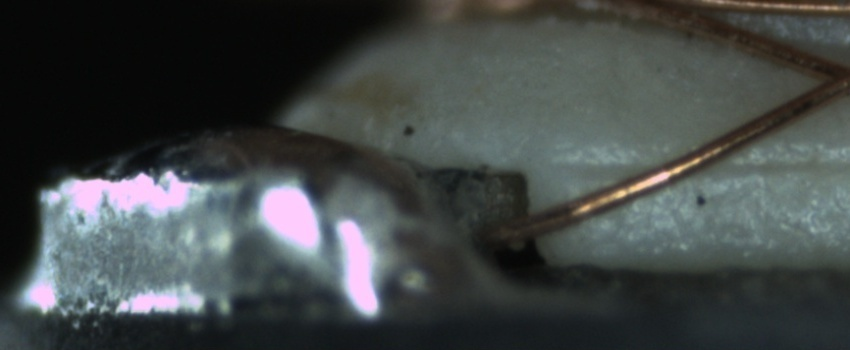CL: (798, 44, 850, 105)
DL: (567, 135, 850, 195)
